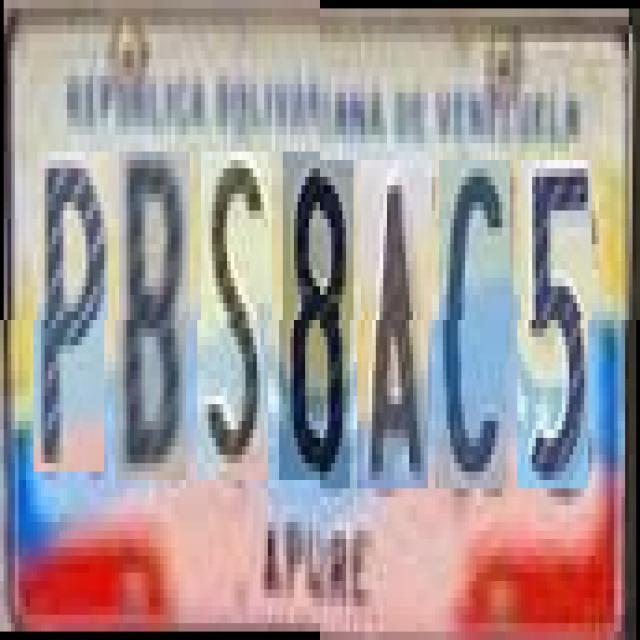5: (521, 160, 592, 488)
8: (282, 160, 354, 488)
A: (361, 160, 432, 488)
B: (120, 160, 190, 488)
C: (440, 160, 510, 488)
P: (37, 160, 108, 480)
S: (201, 160, 272, 488)
